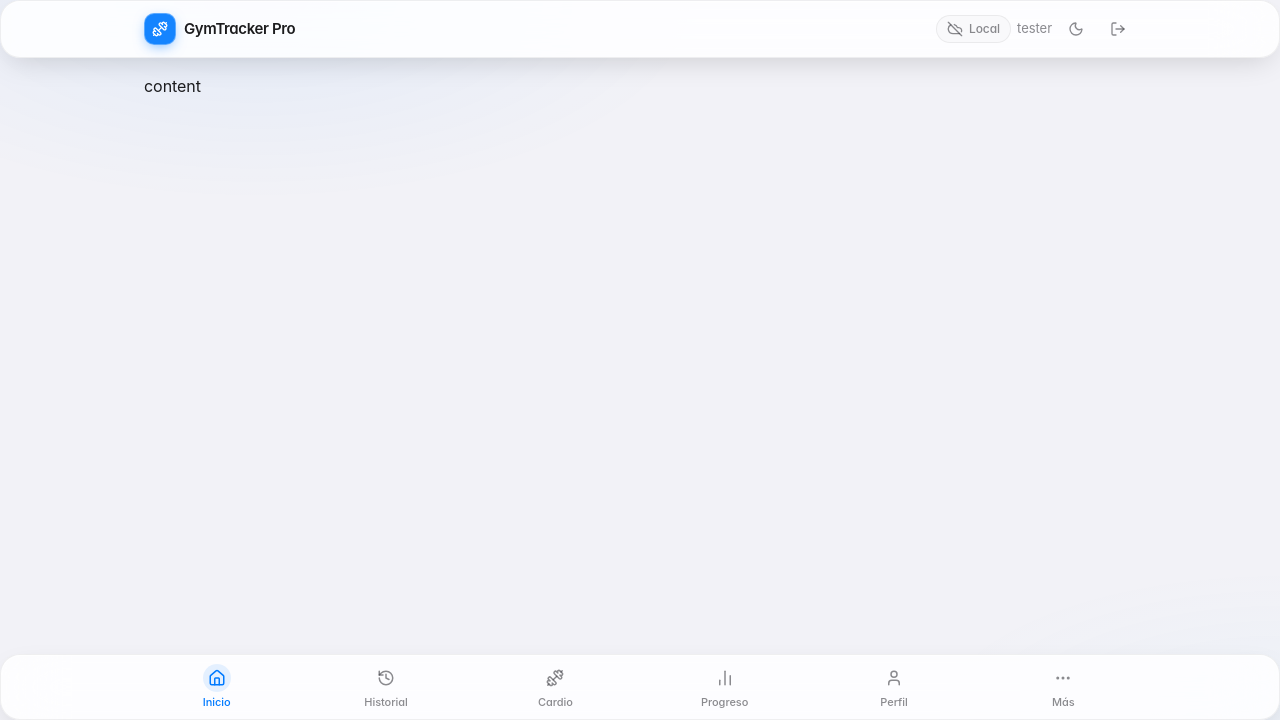
Shell › closes the More submenu when navigating away
The image size is (1280, 720).
Click the button "Más" at (1063, 687), box [979,655,1148,719]
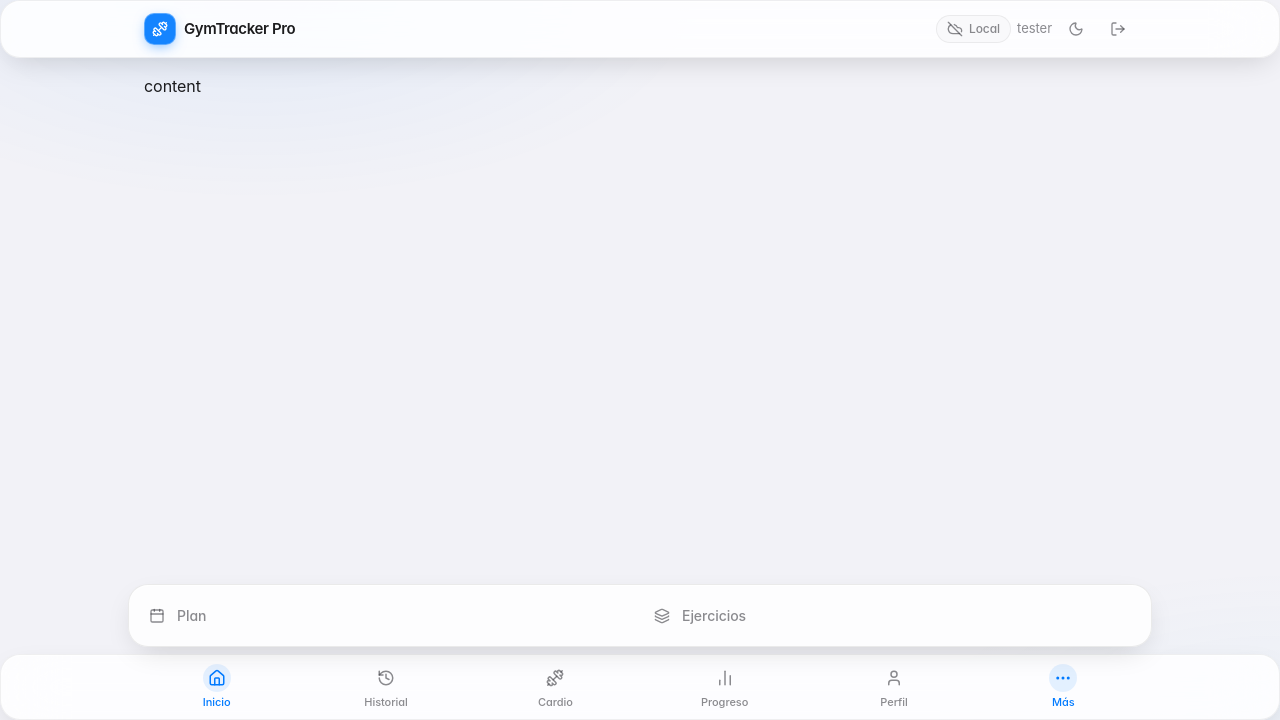
Check: the menu is shown, box [128,584,1152,647]
// Navigate to a plan entry — the menu should close
Click the menu item "Plan" at (178, 616), box [149,607,206,624]
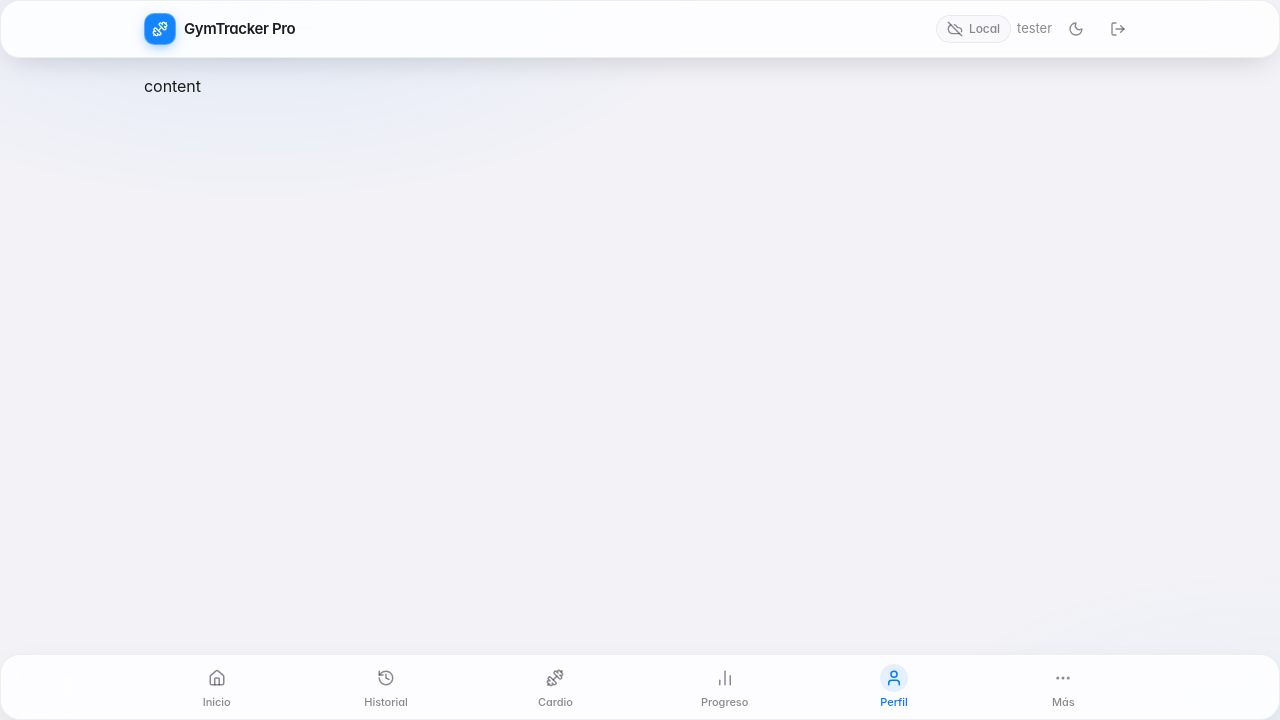
Check: the menu is gone
